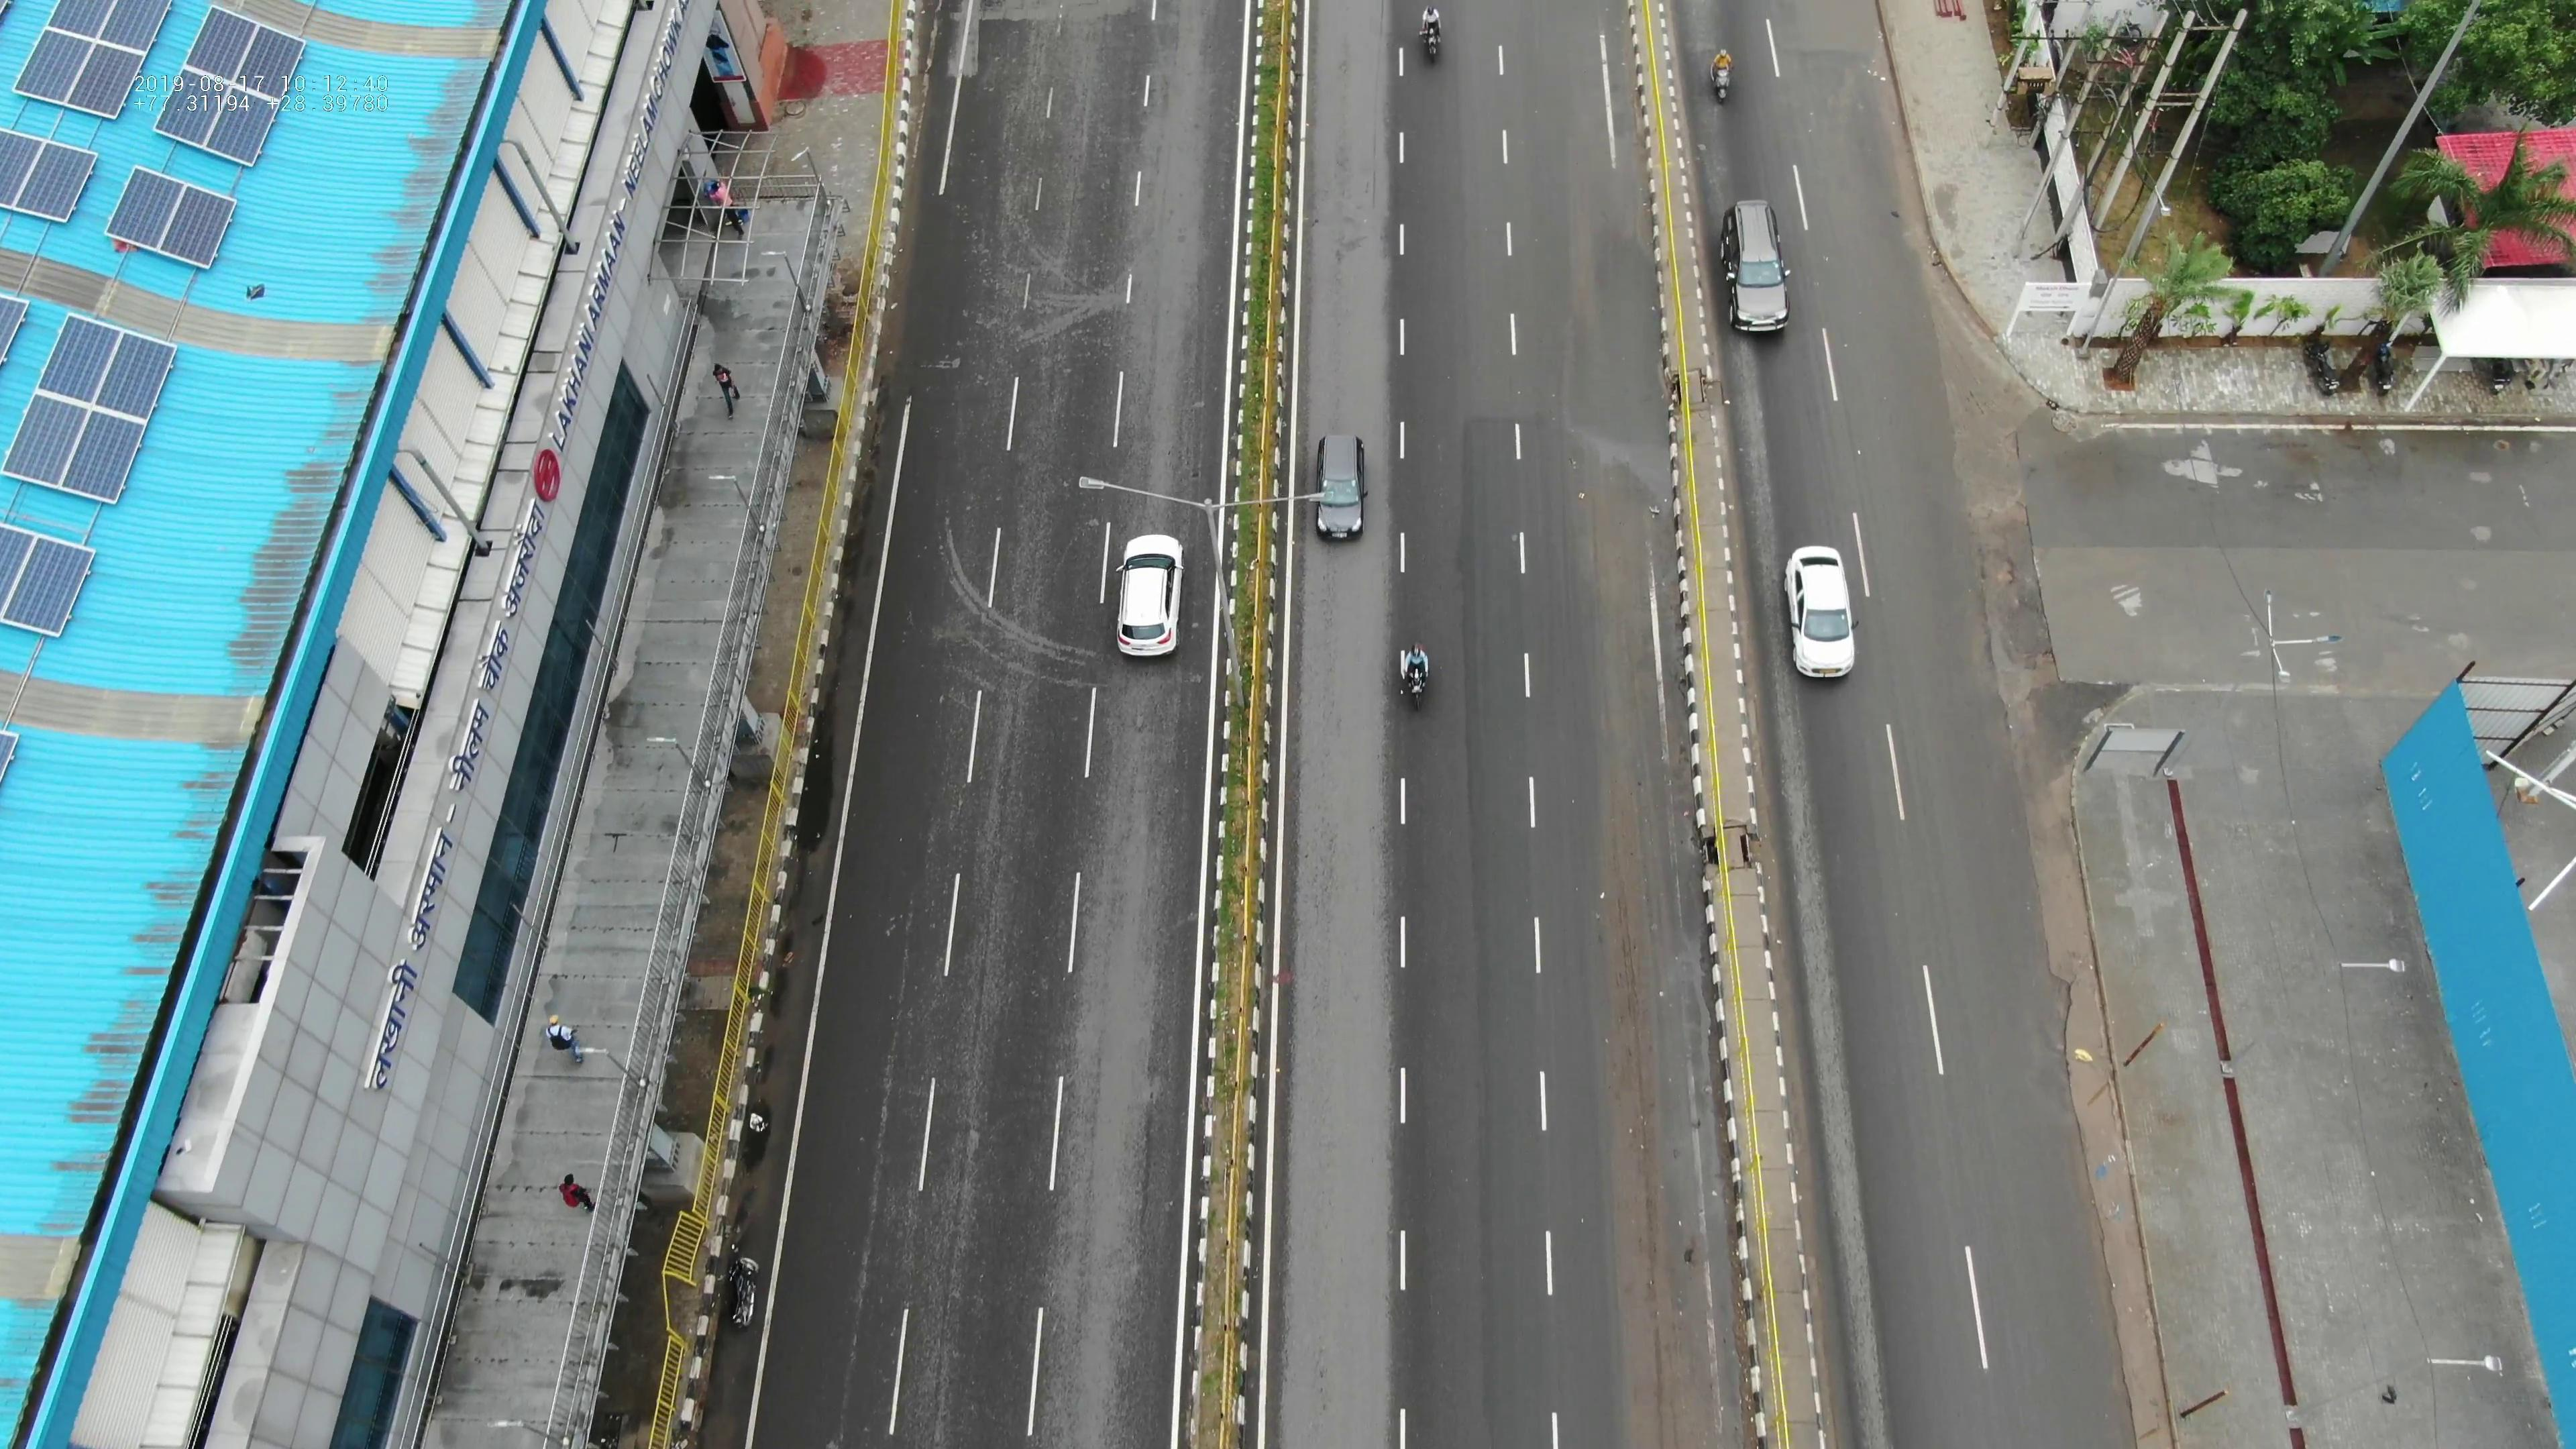Muddy_road: (1596, 918, 1713, 1373)
